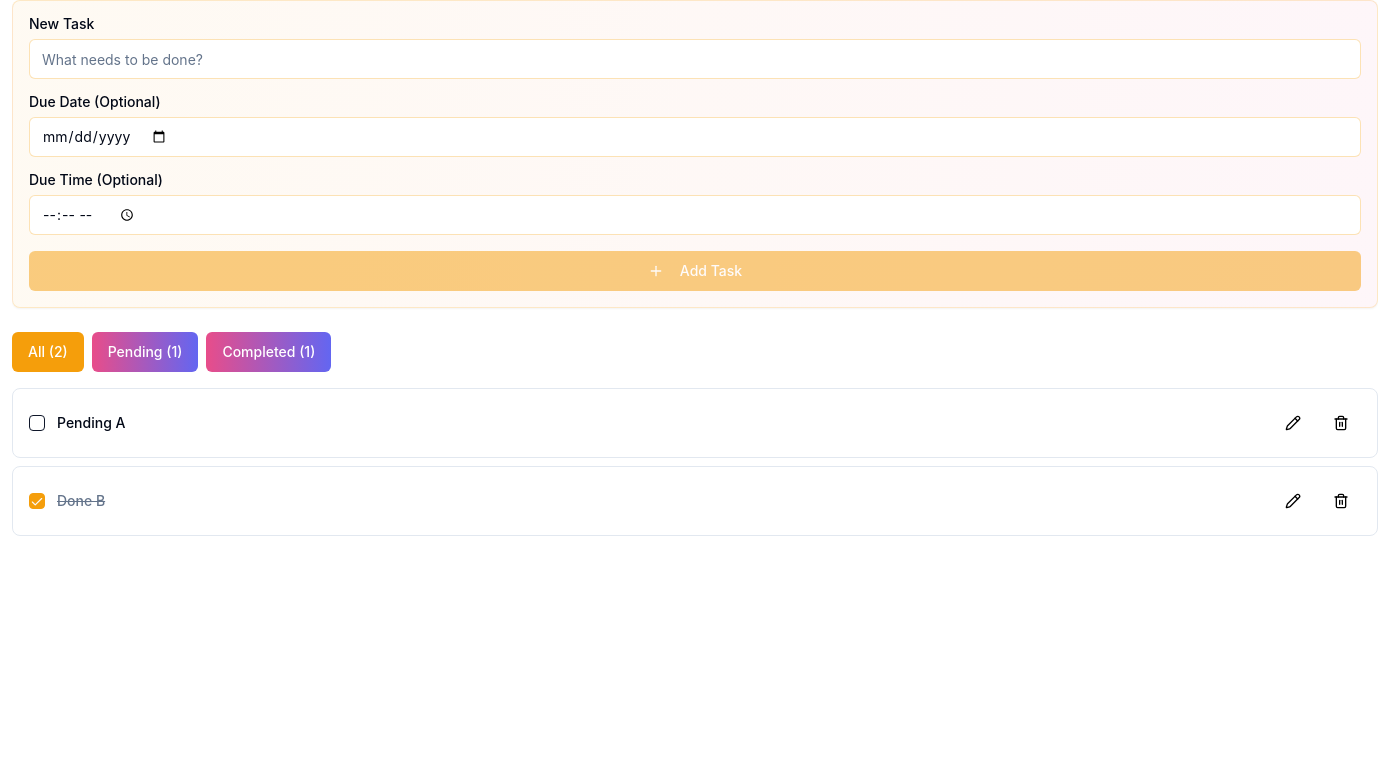
Test: TaskList › filters to completed tasks only when Completed clicked
Click the button "Completed (1)". click: {"x": 269, "y": 352}
box: [206,332,331,372]
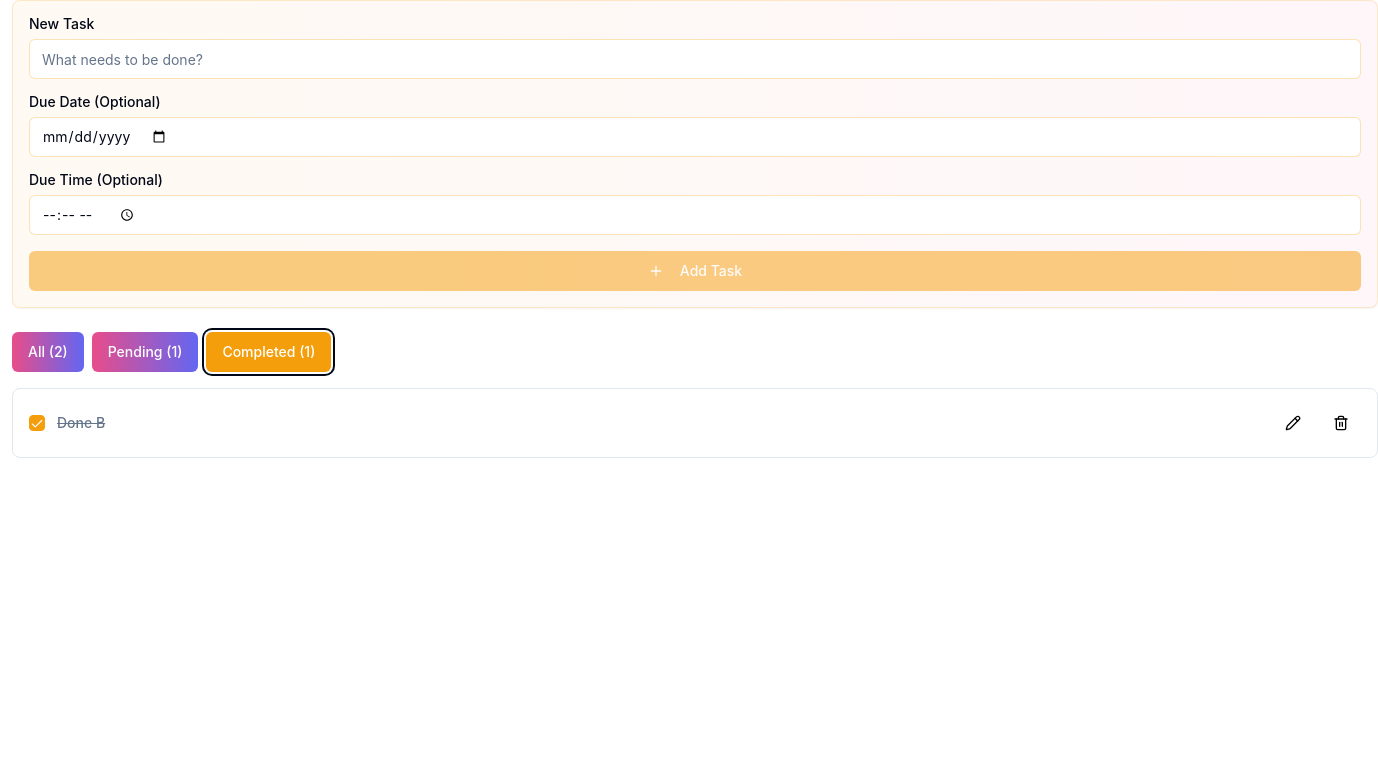
Expected: the text "Done B" is shown, [57,414,105,431]
Expected: the text "Pending A" is gone
